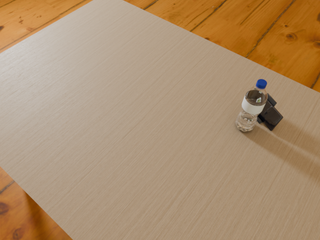bottle: (235, 79, 267, 132)
phone: (258, 99, 283, 131)
